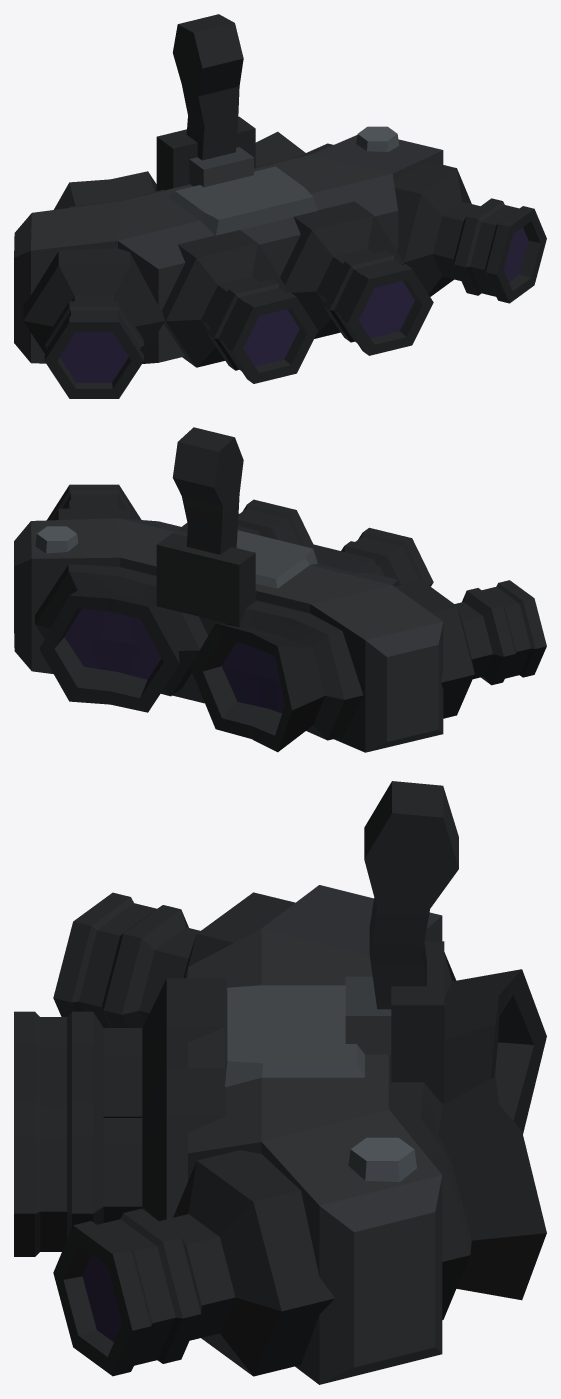
File: SM_Chr_Attach_NVG_03.fbx
3 views of the same model, one above another, from view 1: azimuth 30°, elevation 25°; view 2: azimuth 150°, elevation 25°; view 3: azimuth 270°, elevation 25° (orthographic). The views are drawn at different scales.
Visible parts, largest first — view 1: SM_Chr_Attach_NVG_03; view 2: SM_Chr_Attach_NVG_03; view 3: SM_Chr_Attach_NVG_03.
Boxes of the visible parts, x1,y1,x2,y2 form: SM_Chr_Attach_NVG_03: [14, 14, 546, 398]; SM_Chr_Attach_NVG_03: [14, 427, 546, 752]; SM_Chr_Attach_NVG_03: [14, 781, 546, 1384].
Size of the model in its own units: 30.55 by 15.95 by 17.61.
